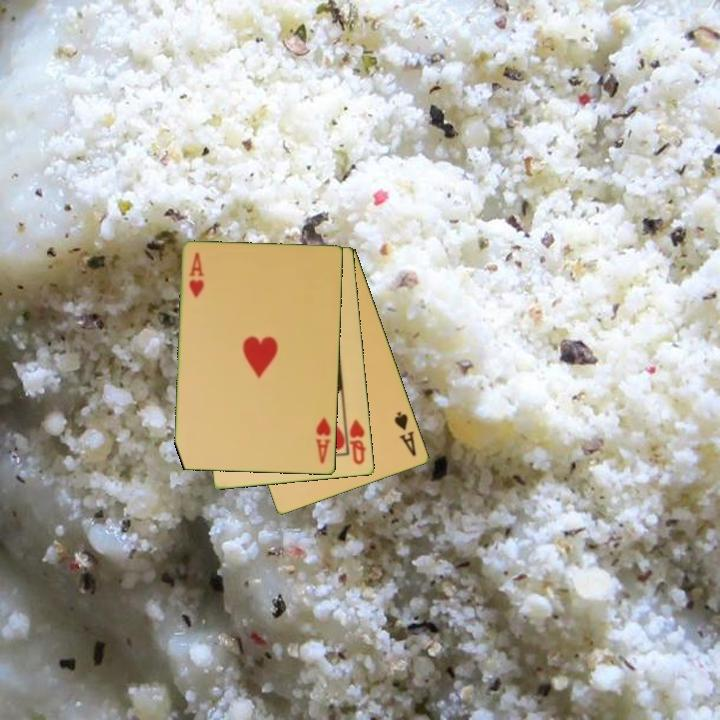Ah: (312, 414, 334, 466), (186, 249, 207, 300)
As: (391, 408, 420, 459)
Qh: (346, 416, 369, 467)
